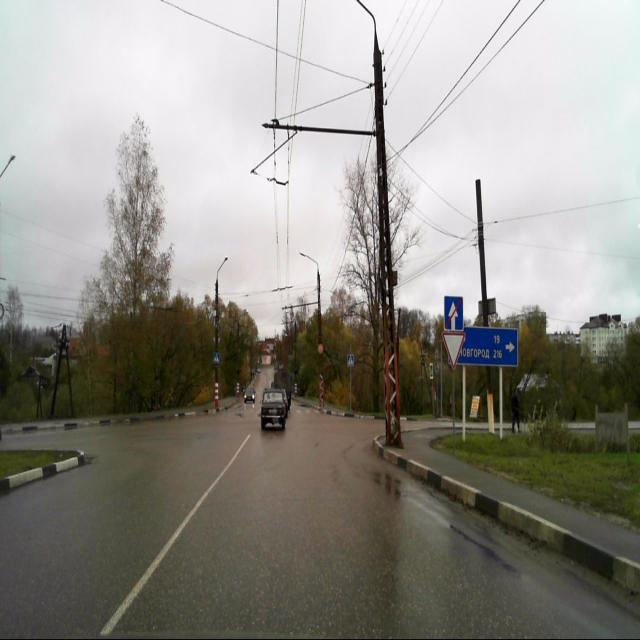road sign: (442, 331, 466, 369), (444, 297, 463, 331)
